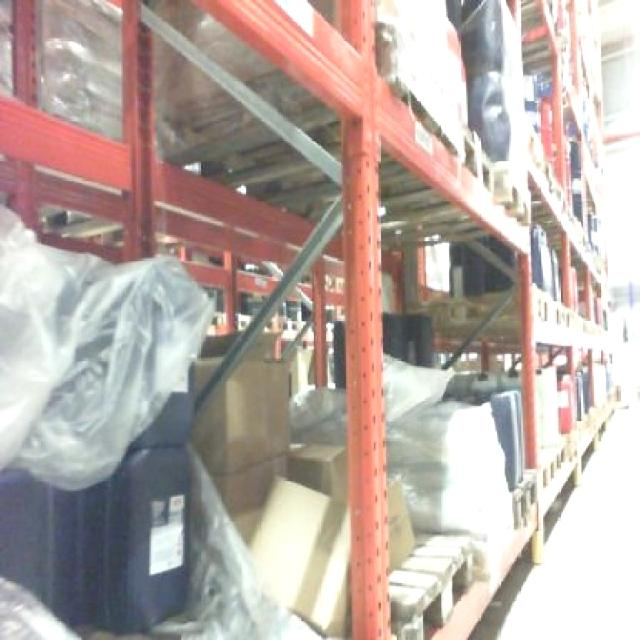pallets: (420, 237, 509, 298), (302, 192, 343, 258)
